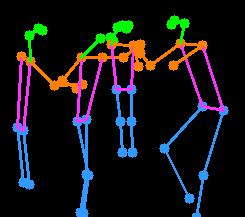normal: (149, 11, 230, 217), (105, 16, 153, 165)
